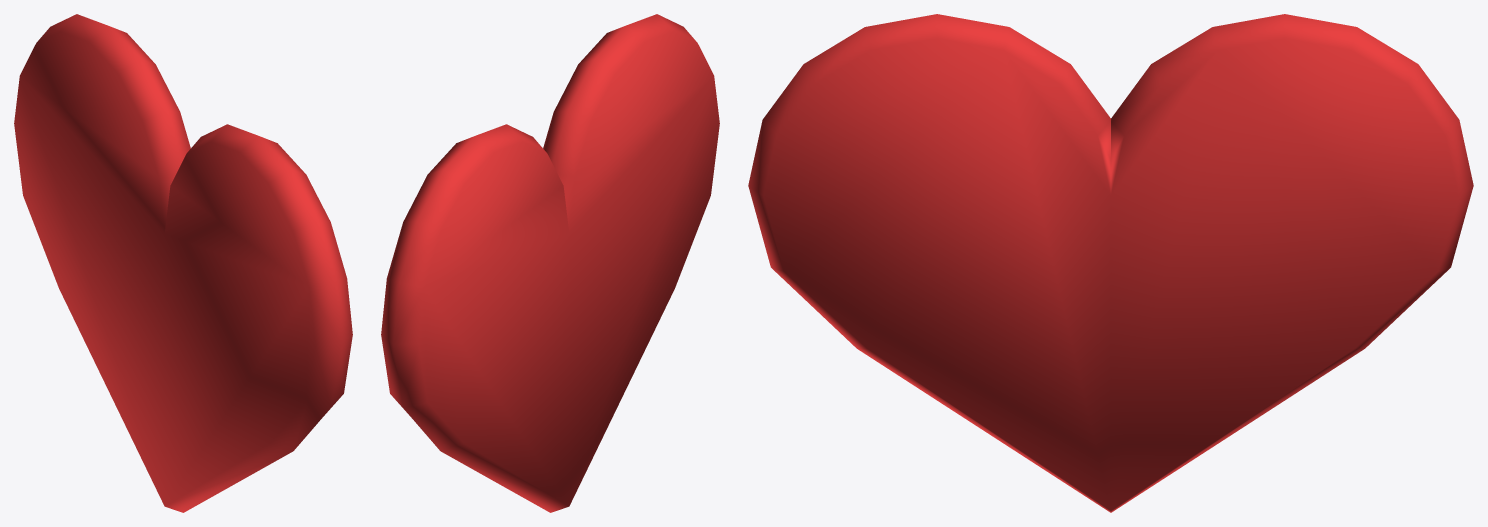
The model's file is herz.fbx.
The picture shows the model from 3 angles, left to right: view 1: azimuth 30°, elevation 25°; view 2: azimuth 150°, elevation 25°; view 3: azimuth 270°, elevation 25°; orthographic projection. The views are drawn at different scales.
Parts seen in each view (by area): view 1: Plane; view 2: Plane; view 3: Plane.
Boxes of the visible parts, <box> form: Plane: <box>14,14,352,512</box>; Plane: <box>381,14,719,512</box>; Plane: <box>748,14,1473,512</box>.
Bounding box in the file's own units: 28.92 × 317 × 417.
